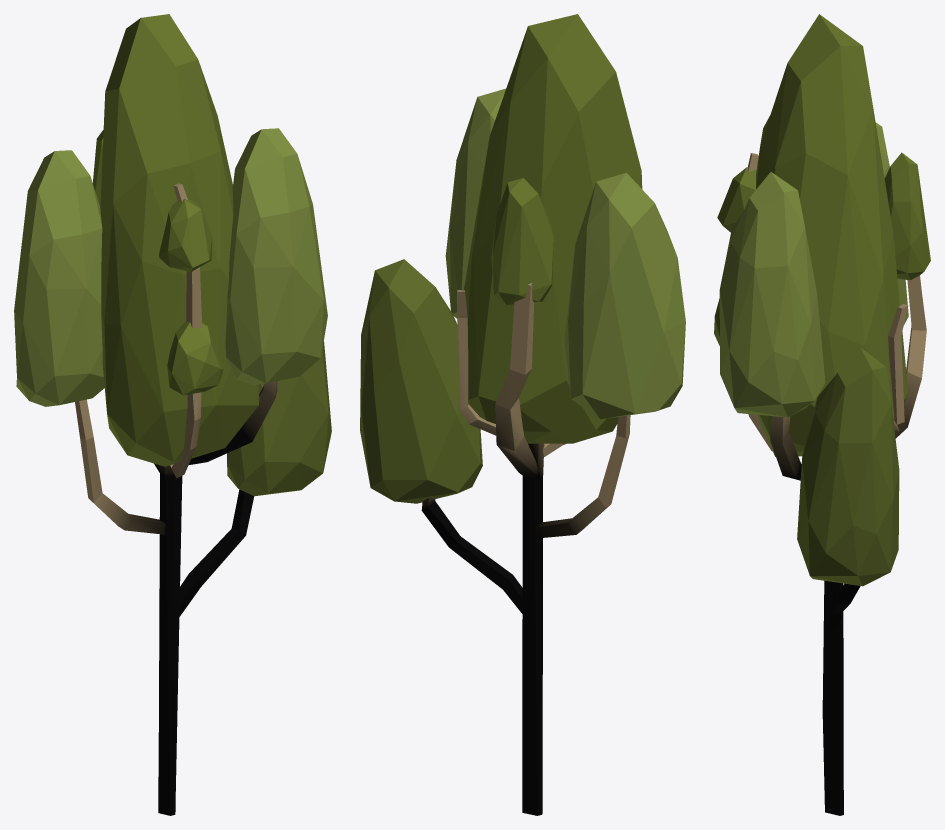
Rendered from EA03_Nature_Tree_02b.glb.
The picture shows the model from 3 angles, left to right: view 1: azimuth 30°, elevation 25°; view 2: azimuth 150°, elevation 25°; view 3: azimuth 270°, elevation 25°; orthographic projection. The views are drawn at different scales.
Parts seen in each view (by area): view 1: EA03_Nature_Tree_02b; view 2: EA03_Nature_Tree_02b; view 3: EA03_Nature_Tree_02b.
Part boxes in pixels (x1,y1,x2,y2): EA03_Nature_Tree_02b: (14, 14, 331, 815); EA03_Nature_Tree_02b: (360, 14, 685, 815); EA03_Nature_Tree_02b: (714, 14, 930, 815).
Bounding box in the file's own units: 4.65 × 11.54 × 2.91.
1 material, 1 textured.
